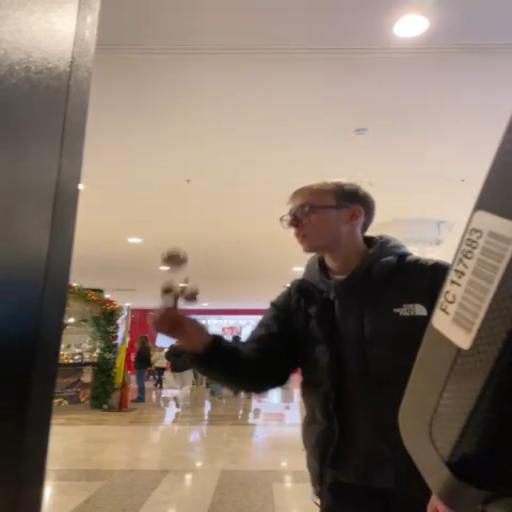kendama_ball: (161, 246, 189, 270)
